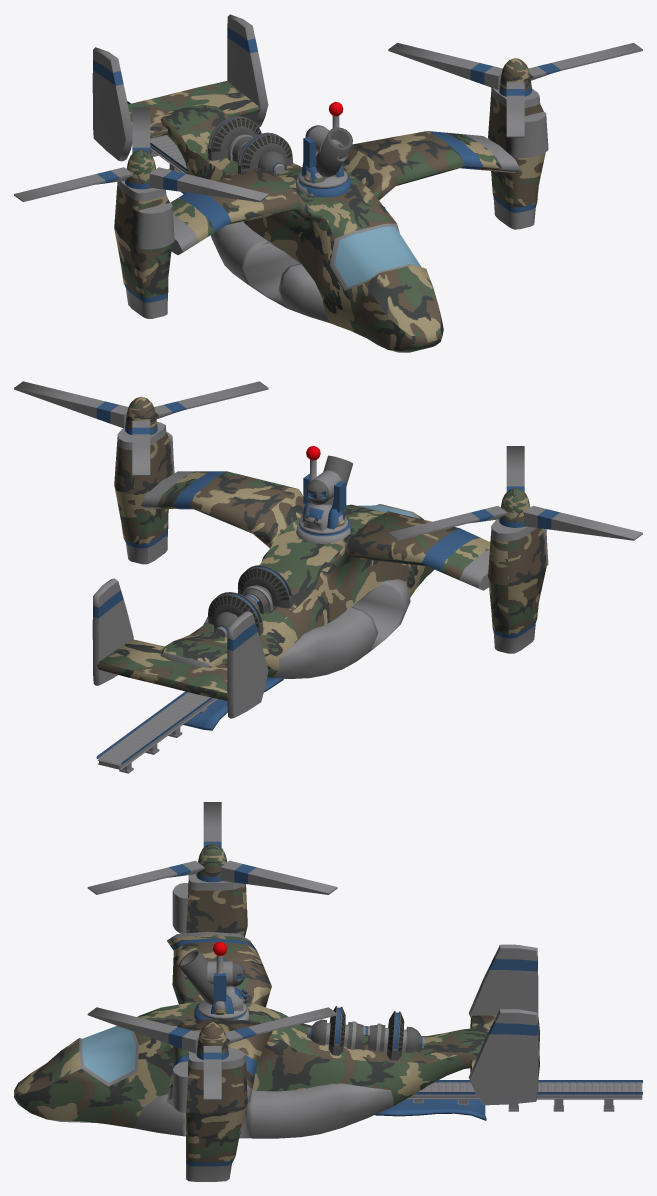
The model's file is Aircraft_upd.fbx.
3 views of the same model, one above another, from view 1: azimuth 30°, elevation 25°; view 2: azimuth 150°, elevation 25°; view 3: azimuth 270°, elevation 25° (orthographic). The views are drawn at different scales.
Visible parts, largest first — view 1: Aircraft, Switcher, R_wing, L_wing, Shield_generator, landmines_cannon, antenna, conveyor, landmines_cannon_platform, laser_gun; view 2: Aircraft, Switcher, R_wing, L_wing, conveyor, Shield_generator, landmines_cannon, door, laser_gun, landmines_cannon_platform; view 3: Aircraft, Switcher, R_wing, L_wing, conveyor, Shield_generator, landmines_cannon, door, laser_gun, antenna.
Part boxes in pixels (left/top/right/bottom): Aircraft: left=92, top=14, right=520, bottom=352; Switcher: left=114, top=87, right=548, bottom=318; R_wing: left=388, top=43, right=642, bottom=137; L_wing: left=14, top=107, right=268, bottom=202; Shield_generator: left=208, top=116, right=292, bottom=174; landmines_cannon: left=301, top=127, right=352, bottom=183; antenna: left=298, top=101, right=350, bottom=197; conveyor: left=127, top=101, right=188, bottom=174; landmines_cannon_platform: left=296, top=170, right=348, bottom=196; laser_gun: left=305, top=125, right=347, bottom=161; Aircraft: left=92, top=471, right=490, bottom=718; Switcher: left=114, top=421, right=548, bottom=653; R_wing: left=14, top=381, right=268, bottom=475; L_wing: left=388, top=446, right=642, bottom=540; conveyor: left=96, top=691, right=217, bottom=773; Shield_generator: left=208, top=565, right=292, bottom=637; landmines_cannon: left=302, top=455, right=352, bottom=531; door: left=183, top=677, right=283, bottom=730; laser_gun: left=305, top=470, right=341, bottom=504; landmines_cannon_platform: left=296, top=516, right=350, bottom=543; Aircraft: left=14, top=931, right=539, bottom=1138; Switcher: left=172, top=874, right=247, bottom=1181; R_wing: left=87, top=1007, right=337, bottom=1100; L_wing: left=87, top=802, right=337, bottom=894; conveyor: left=406, top=1080, right=642, bottom=1111; Shield_generator: left=307, top=1006, right=424, bottom=1060; landmines_cannon: left=178, top=949, right=248, bottom=1013; door: left=375, top=1099, right=486, bottom=1120; laser_gun: left=185, top=961, right=245, bottom=986; antenna: left=194, top=942, right=243, bottom=1020.
Size of the model in its own units: 3830 by 1094 by 3433.
